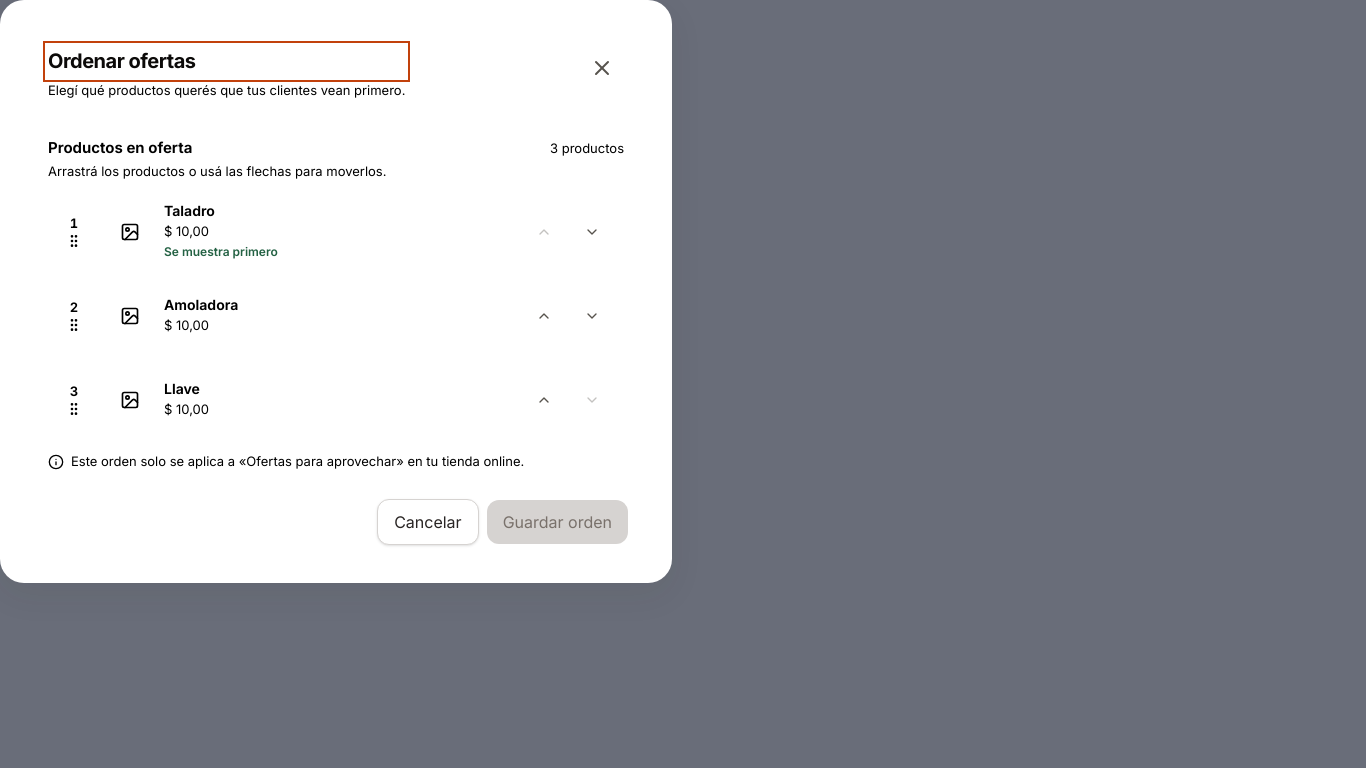
Test: OfferOrderDialog › reports revoked permissions and keeps the edited order
What coordinates should you click on to do the following:
click the button named "Bajar Taladro"
I would click on:
 (592, 232)
Its box is 570,210 -> 614,254.
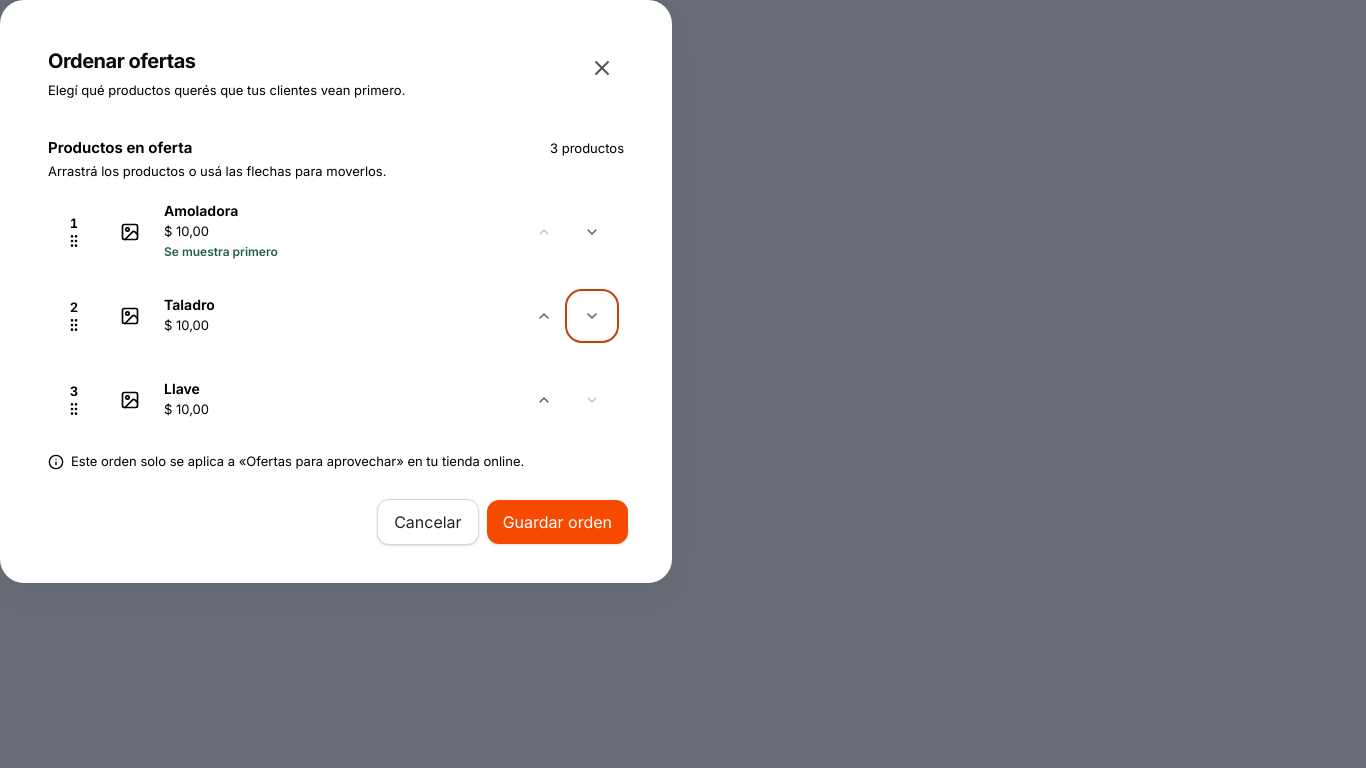
What coordinates should you click on to do the following:
click the button "Guardar orden"
I would click on:
 (557, 522)
Its box is 487,500 -> 628,544.
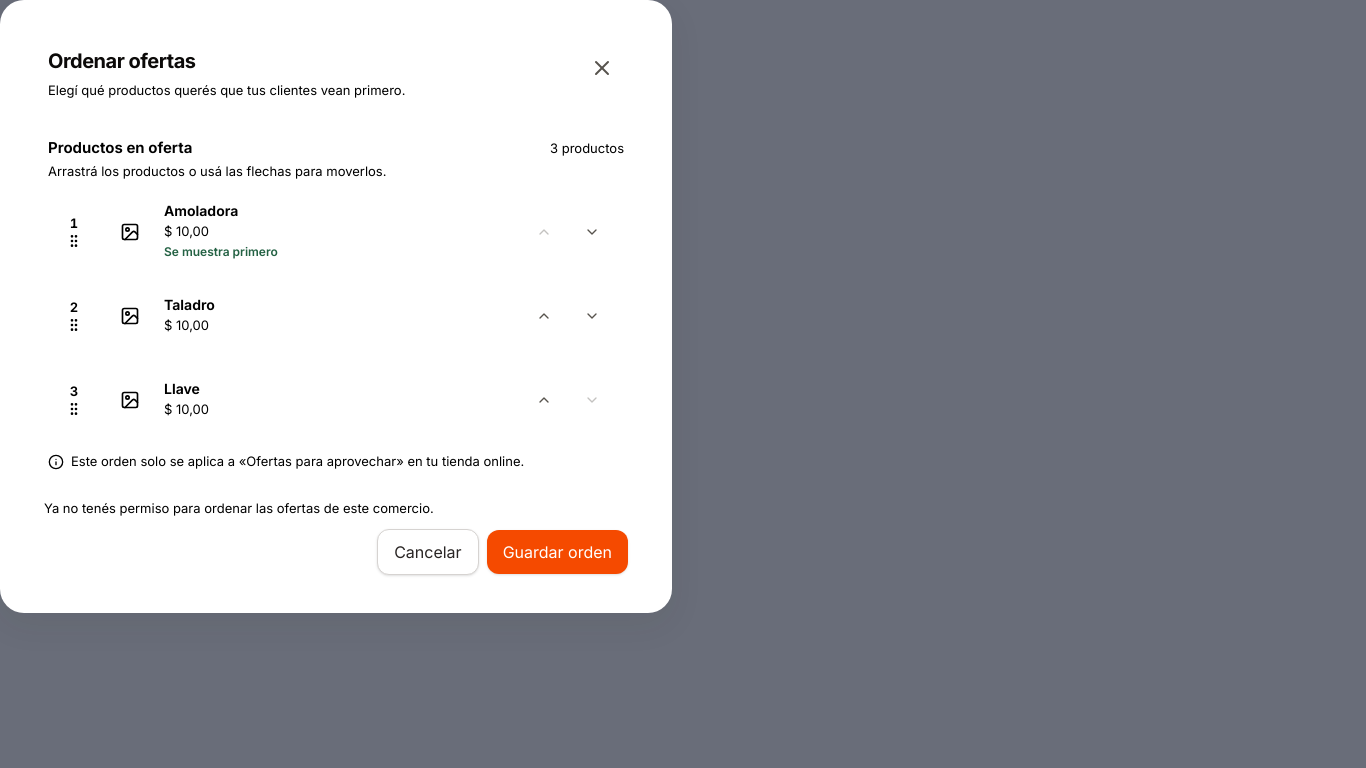
Expected: the list item "1 Amoladora $ 10,00 Se muestra primero" is shown, 48,194 -> 624,270
Expected: the message reads "Ya no tenés permiso para ordenar las ofertas de este comercio.", 44,500 -> 434,516
